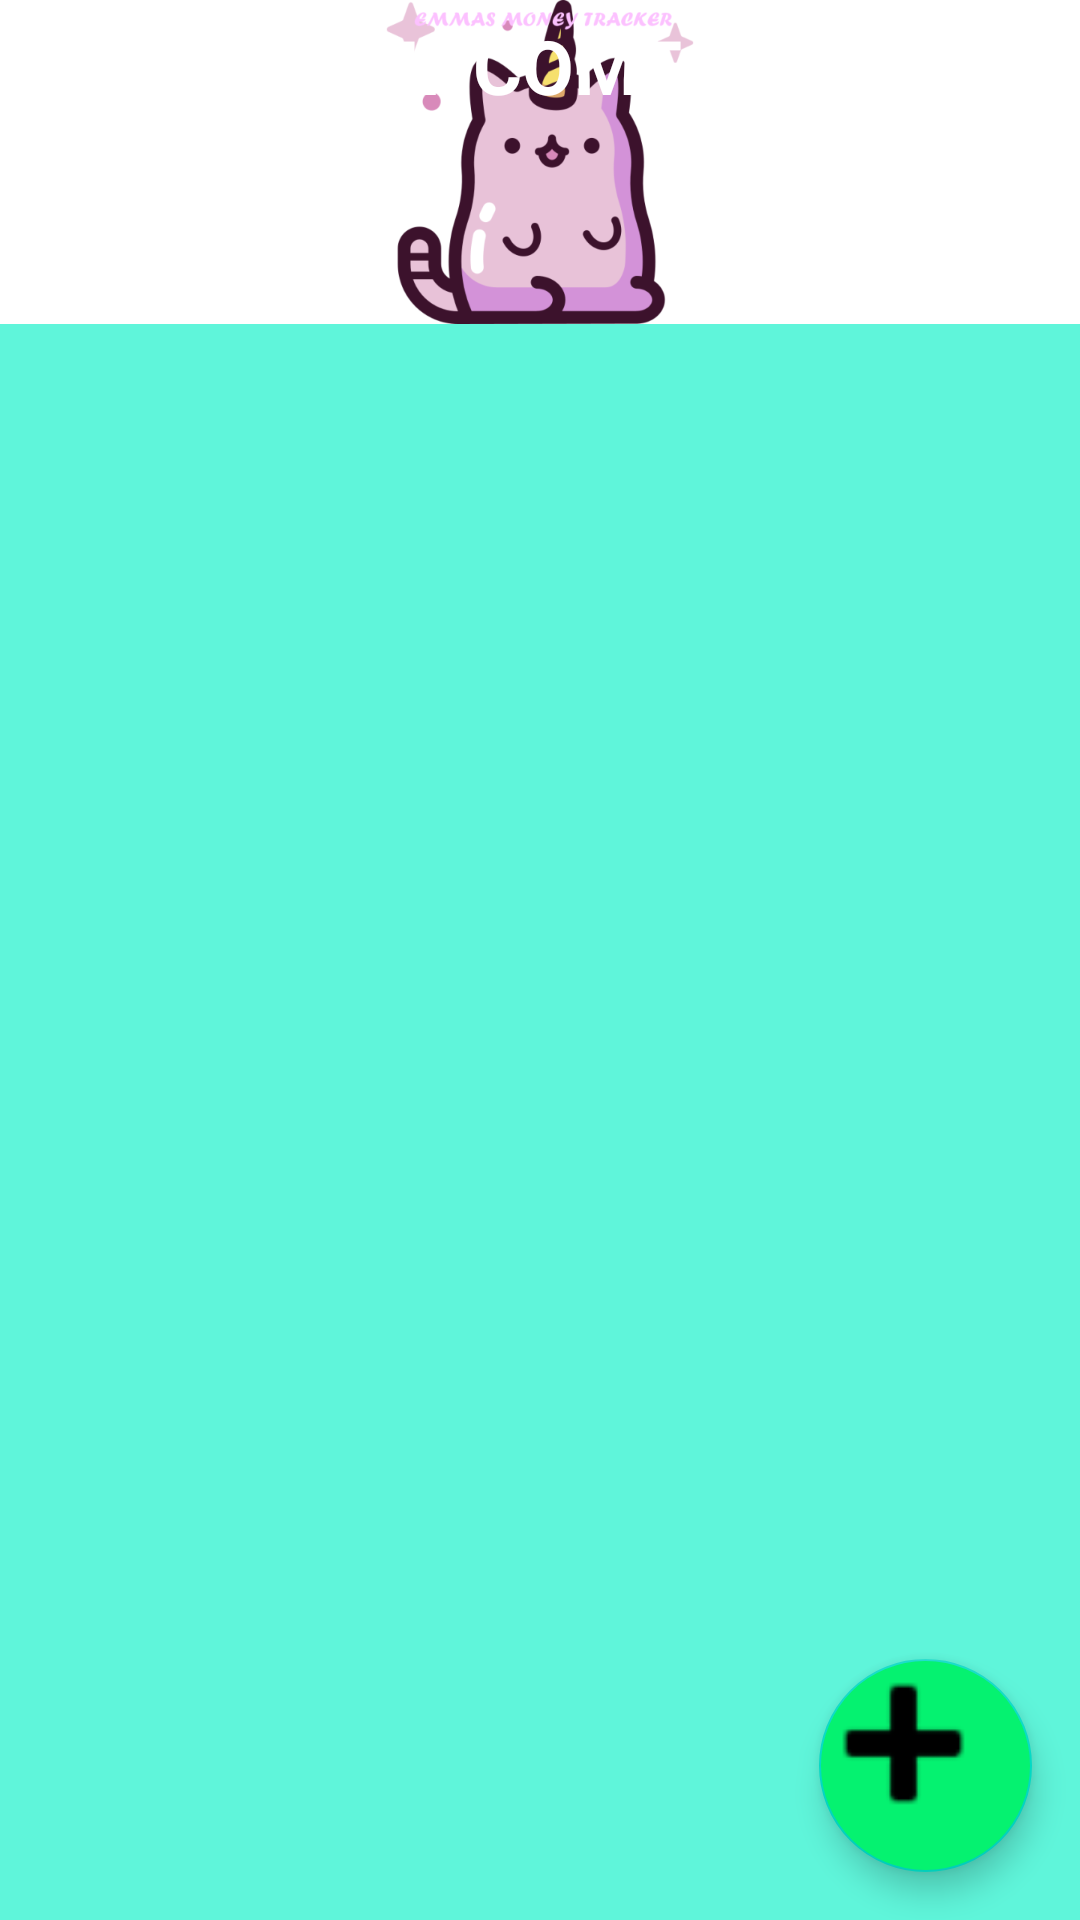

Locate icon controls on the screen. Image size 1080x1920, boxes as (left=x1, top=y1, right=x2, bottom=y2).
add: (left=819, top=1659, right=1032, bottom=1872)
